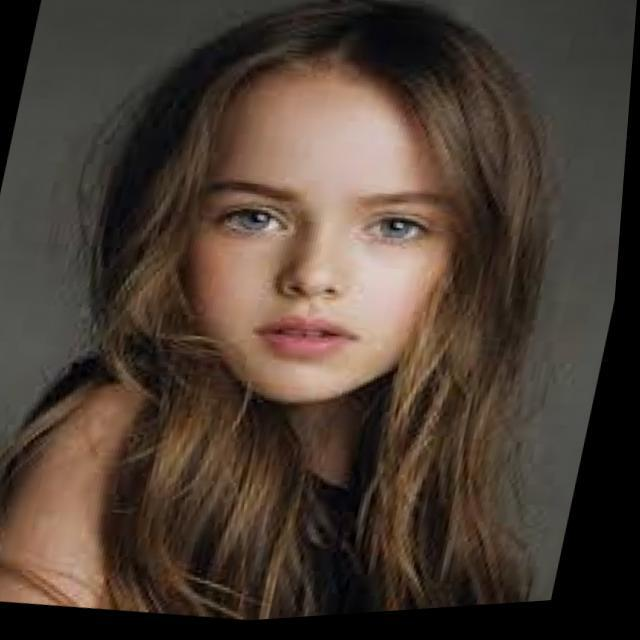Nonhelmet: (99, 6, 532, 411)
